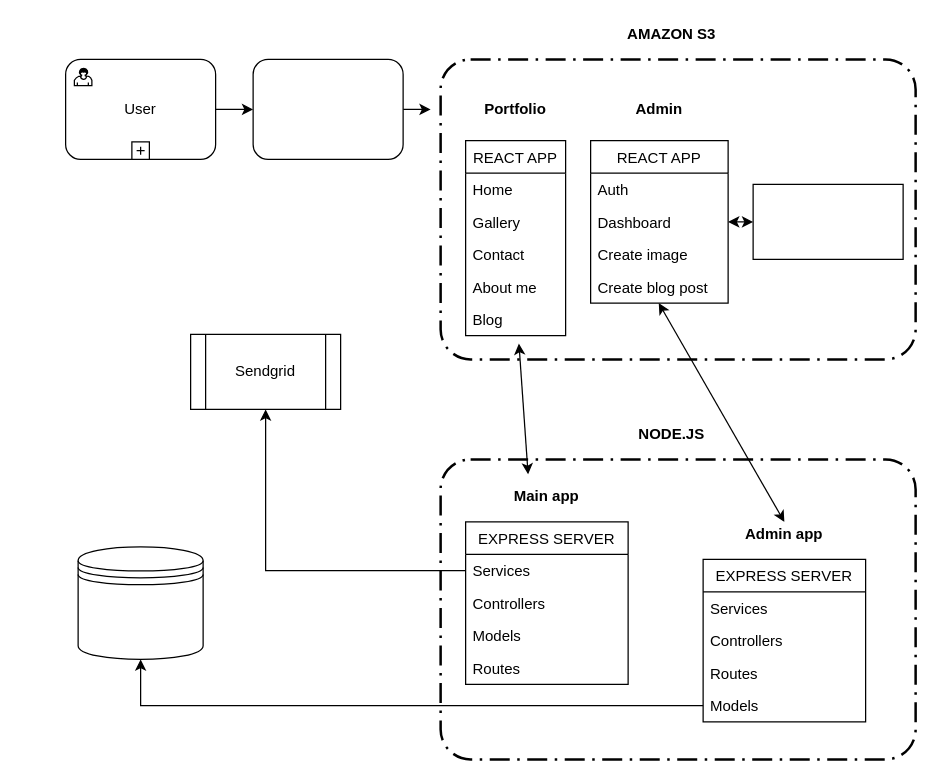
Image size: 938x781. Some labels were removed from this diagram. Each missing label, with the centre of its shape:
"Browser" belongs at point (327, 108).
"IMAGES" belongs at point (827, 221).
"MONGODB" belongs at point (140, 602).
